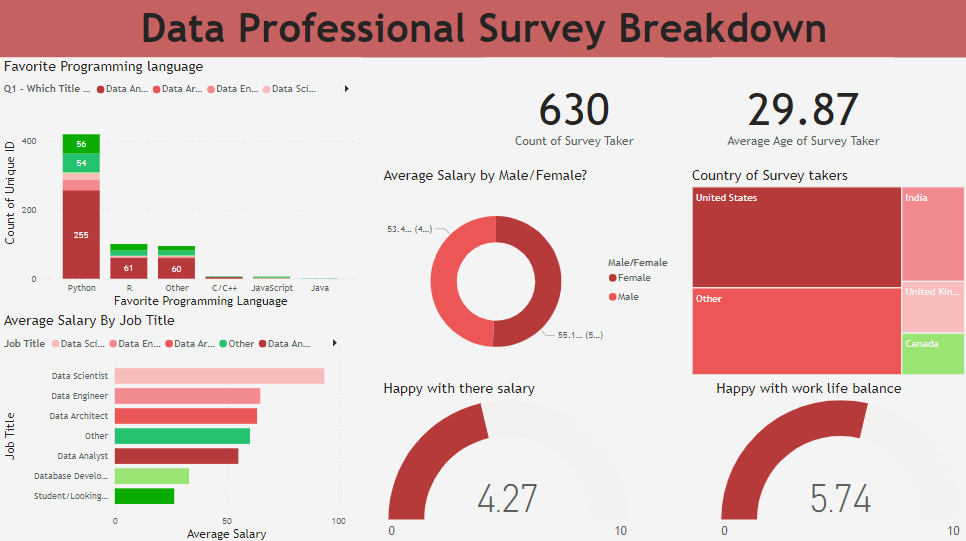

Layout of this report page (visuals, bound fields, positions):
{"tool":"powerbi","page":{"name":"Page 1","canvas":[1280,720],"ordinal":0},"visuals":[{"type":"textbox","box":[0,0,1280,76],"z":0},{"type":"card","fields":{"Values":["CountNonNull(Data Professional Survey.Unique ID)"]},"box":[502,80,238,154],"z":1},{"type":"card","fields":{"Values":["Avg(Data Professional Survey.Q10 - Current Age)"]},"box":[740,80,240,158],"z":2},{"type":"barChart","title":"Average Salary By Job Title  ","fields":{"Category":["Data Professional Survey.Q1 - Which Title Best Fits your Current Role?.1"],"Y":["Avg(Data Professional Survey.Average Salary)"],"Series":["Data Professional Survey.Q1 - Which Title Best Fits your Current Role?.1"]},"box":[0,412,462,308],"z":3},{"type":"columnChart","title":"Favorite Programming language","fields":{"Category":["Data Professional Survey.Q5 - Favorite Programming Language.1"],"Y":["CountNonNull(Data Professional Survey.Unique ID)"],"Series":["Data Professional Survey.Q1 - Which Title Best Fits your Current Role?.1"]},"box":[0,76,478,336],"z":4},{"type":"treemap","title":"Country of Survey takers","fields":{"Group":["Data Professional Survey.Q11 - Which Country do you live in?.1"],"Values":["CountNonNull(Data Professional Survey.Q11 - Which Country do you live in?.1)"]},"box":[910,220,370,280],"z":5},{"type":"gauge","title":"Happy with work life balance","fields":{"Y":["Avg(Data Professional Survey.Q6 - How Happy are you in your Current Position with the following? (Work/Life Balance))"],"MaxValue":["Max(Data Professional Survey.Q6 - How Happy are you in your Current Position with the following? (Work/Life Balance))2"],"MinValue":["Min(Data Professional Survey.Q6 - How Happy are you in your Current Position with the following? (Work/Life Balance))"]},"box":[942,502,338,218],"z":6},{"type":"gauge","title":"Happy with there salary","fields":{"Y":["Avg(Data Professional Survey.Q6 - How Happy are you in your Current Position with the following? (Salary))"],"MinValue":["Min(Data Professional Survey.Q6 - How Happy are you in your Current Position with the following? (Salary))1"],"MaxValue":["Max(Data Professional Survey.Q6 - How Happy are you in your Current Position with the following? (Salary))2"]},"box":[502,502,338,218],"z":7},{"type":"donutChart","title":"Average Salary by  Male/Female?","fields":{"Category":["Data Professional Survey.Q9 - Male/Female?"],"Y":["Avg(Data Professional Survey.Average Salary)"]},"box":[502,220,408,282],"z":8}]}

Visuals, with their boxes in screenshot pixels (x1, y1, x2, y2), scaled from the page's 1280x720 canvas onto the 966x541 screenshot:
textbox: 0/0/965/57
card - CountNonNull(Data Professional Survey.Unique ID): 379/60/558/176
card - Avg(Data Professional Survey.Q10 - Current Age): 558/60/740/179
"Average Salary By Job Title  " barChart: 0/310/349/540
"Favorite Programming language" columnChart: 0/57/361/310
"Country of Survey takers" treemap: 687/165/965/376
"Happy with work life balance" gauge: 711/377/965/540
"Happy with there salary" gauge: 379/377/634/540
"Average Salary by  Male/Female?" donutChart: 379/165/687/377
